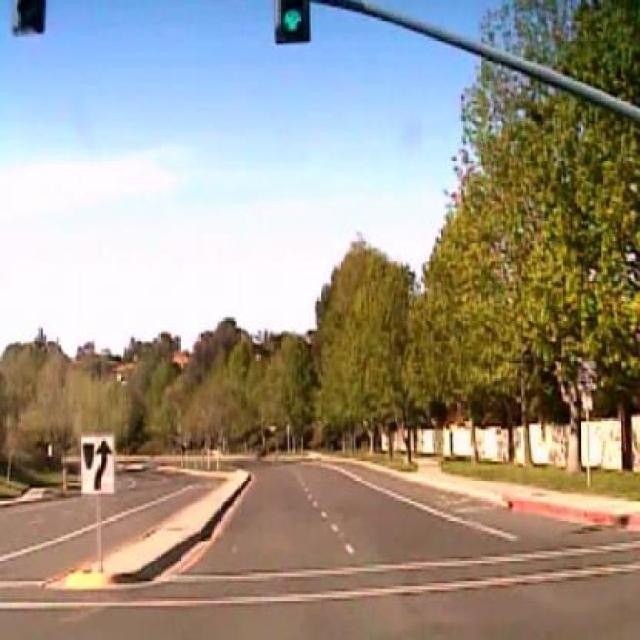keepRight: (78, 436, 115, 496)
